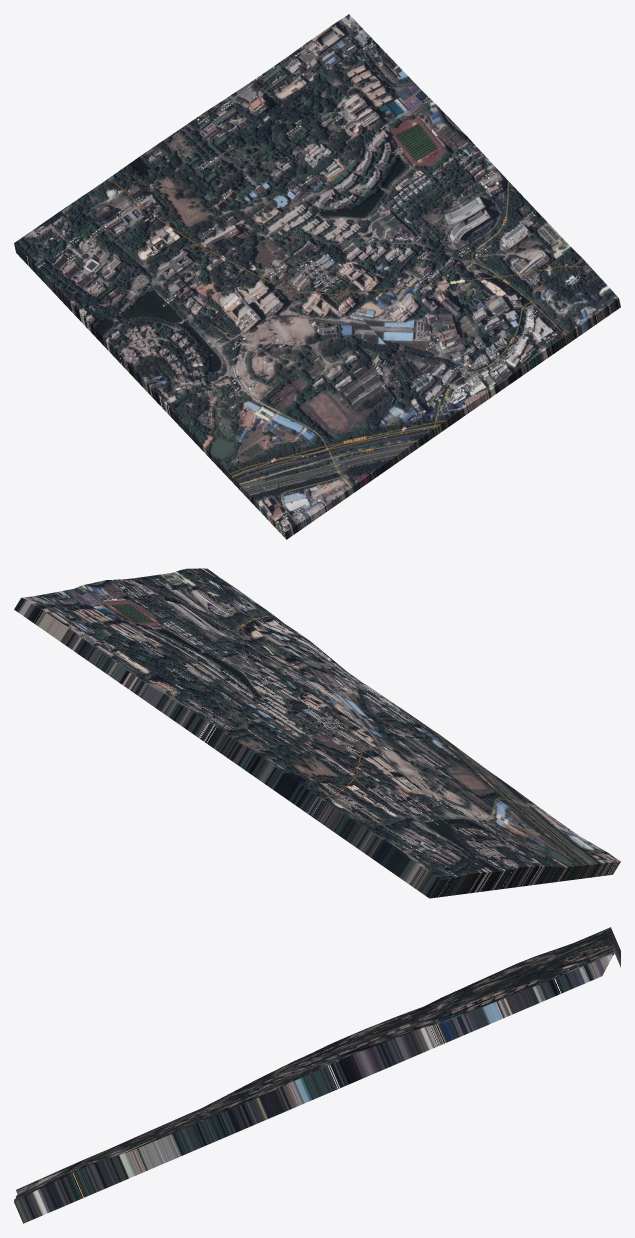
The picture shows the model from 3 angles, top to bottom: view 1: azimuth 30°, elevation 25°; view 2: azimuth 150°, elevation 25°; view 3: azimuth 270°, elevation 25°; orthographic projection. The views are drawn at different scales.
Visible parts, largest first — view 1: 1_1_13; view 2: 1_1_13; view 3: 1_1_13.
Boxes of the visible parts, box(x1,y1,x2,y2) form: 1_1_13: box(14, 14, 620, 539); 1_1_13: box(14, 568, 620, 898); 1_1_13: box(14, 927, 620, 1223).
Size of the model in its own units: 1240 by 911 by 1136.
1 material, 1 textured.
